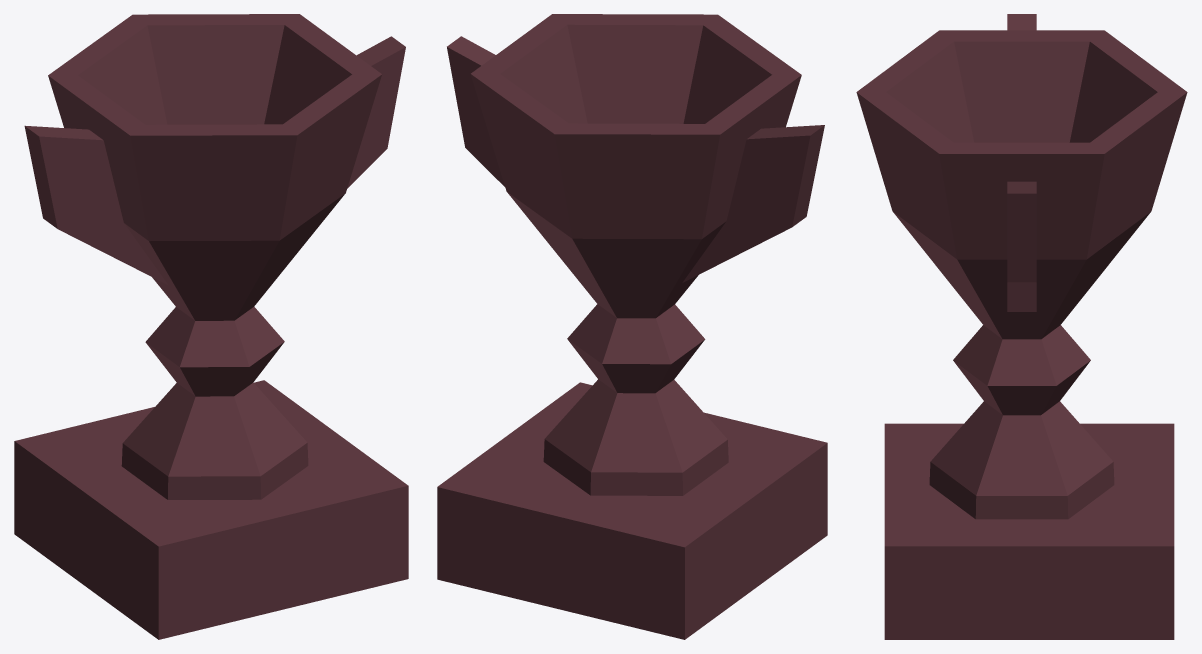
Rendered from furniture-trophy-silver.glb.
3 views of the same model, side by side, from view 1: azimuth 30°, elevation 25°; view 2: azimuth 150°, elevation 25°; view 3: azimuth 270°, elevation 25° (orthographic).
Parts seen in each view (by area): view 1: trophy-silver; view 2: trophy-silver; view 3: trophy-silver.
Boxes of the visible parts, left/top/right/bottom form: trophy-silver: left=14, top=14, right=408, bottom=639; trophy-silver: left=437, top=14, right=827, bottom=639; trophy-silver: left=856, top=14, right=1187, bottom=639.
Size of the model in its own units: 0.1028 by 0.1298 by 0.08.
